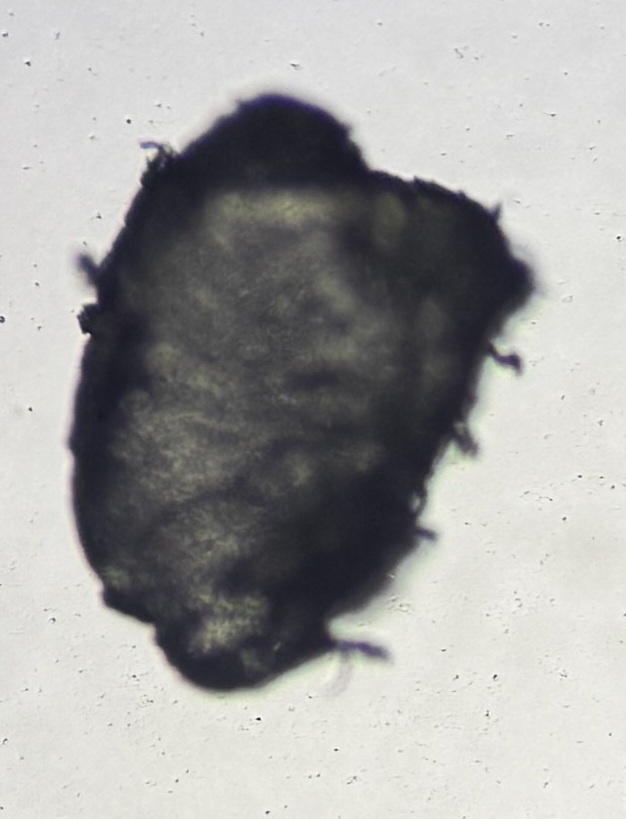microplastic: (67, 94, 537, 692)
